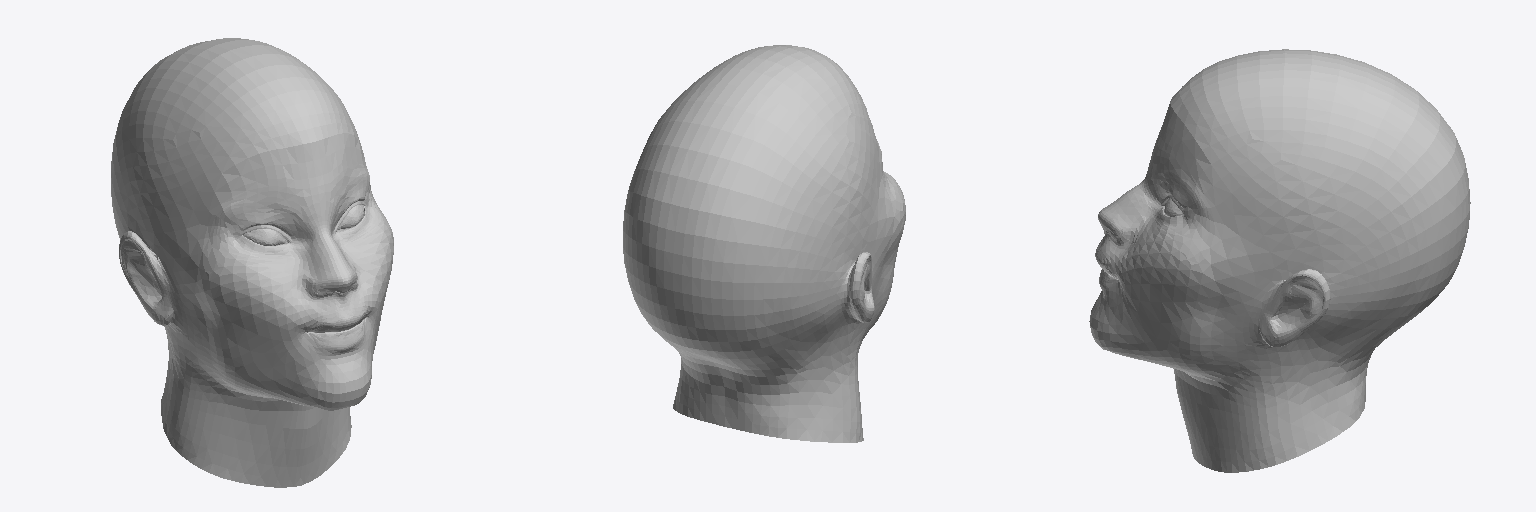
3 renders of one model, left to right at view 1: azimuth 30°, elevation 25°; view 2: azimuth 150°, elevation 25°; view 3: azimuth 270°, elevation 25°, orthographic.
Visible parts, largest first — view 1: FaceGen; view 2: FaceGen; view 3: FaceGen.
Boxes of the visible parts, <box> form: FaceGen: <box>111,38,393,487</box>; FaceGen: <box>623,45,905,442</box>; FaceGen: <box>1089,49,1470,472</box>.
Bounding box in the file's own units: 170 × 281 × 245.